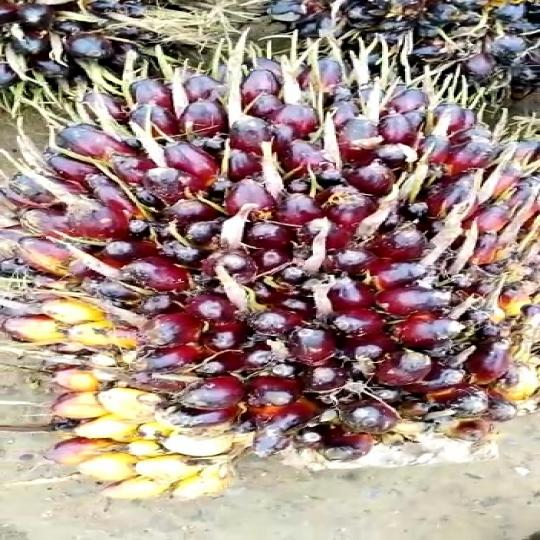mentah: (4, 46, 540, 506)
